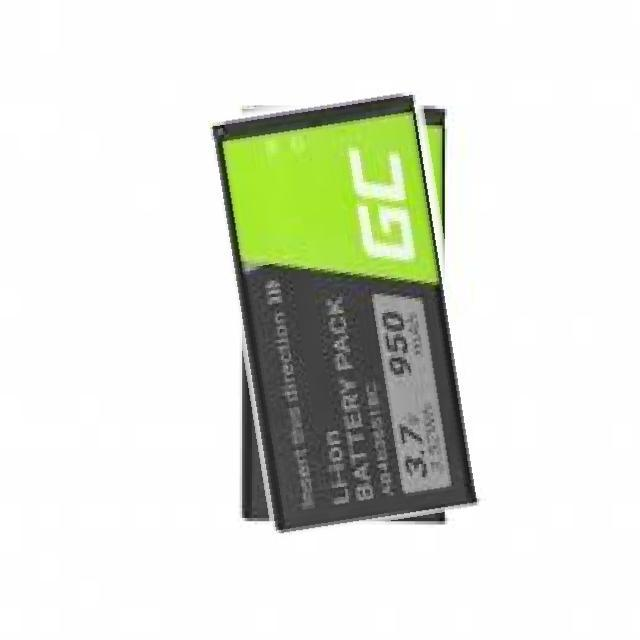Battery: (193, 82, 489, 540)
